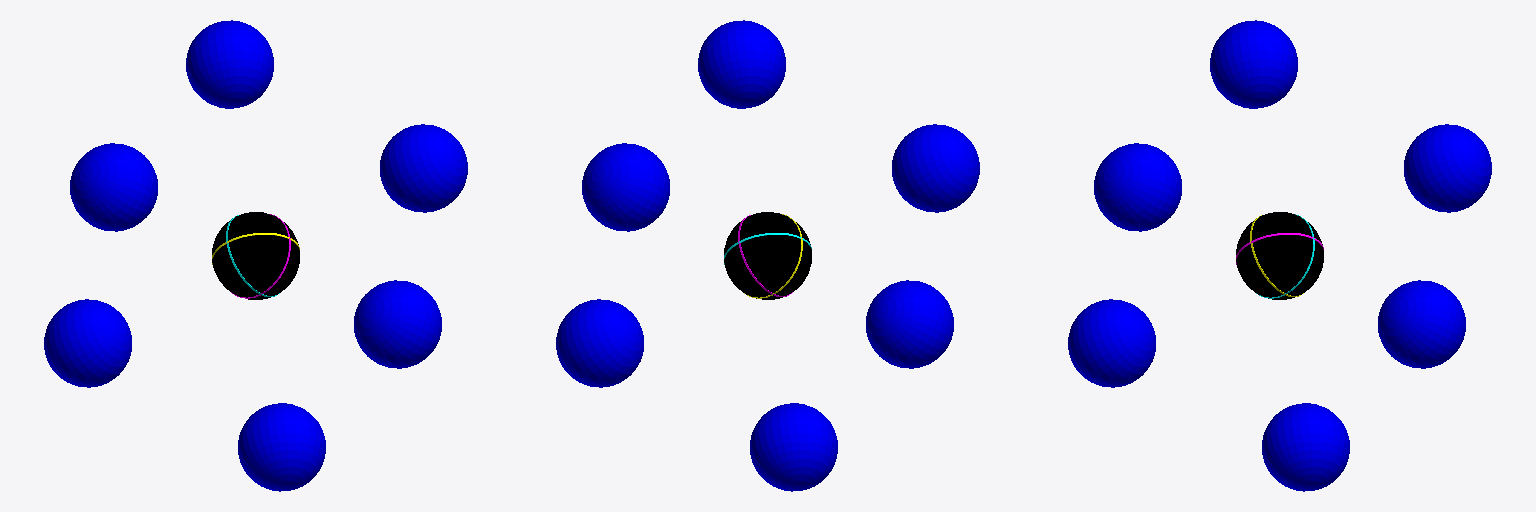
robot.urdf — onshape:
<robot name="onshape">

    <material name="black">
        <color rgba="0 0 0 0.8"/>
    </material>
    <material name="cyan">
        <color rgba="0.0 1.0 1.0 1.0"/>
    </material>
    <material name="magenta">
        <color rgba="1.0 0.0 1.0 1.0"/>
    </material>
    <material name="yellow">
        <color rgba="1.0 1.0 0.0 1.0"/>
    </material>
    <link name="fake_dummy_body:1">
        <visual>
            <origin xyz="0 0 0" rpy="-0.785398 -0.61548 1.19113" />
            <geometry>
                <sphere radius="0.1"/>
            </geometry>
            <material name="black"/>
        </visual>
        <inertial>
            <origin xyz="0 0 0" rpy="0 0 0"/>
            <mass value="0.075" />
            <inertia ixx="0.00108" ixy="-2.7e-07" ixz="-6.1e-07" iyy="0.00108" iyz="-3.3e-07" izz="0.00108" />
        </inertial>
    </link>

    <link name="rev_joint:1">
        <visual>
            <origin xyz="0 0 0" rpy="3.14159 0 0" />
            <geometry>
                <cylinder radius="0.101" length="0.005"/>
            </geometry>
            <material name="cyan"/>
        </visual>
        <inertial>
            <origin xyz="0 0 0" rpy="0 0 0"/>
            <mass value="0.00153243" />
            <inertia ixx="1.19e-06" ixy="1e-22" ixz="-8.58e-08" iyy="2.3e-06" iyz="1.38e-22" izz="2.36e-06" />
        </inertial>
    </link>

    <link name="member:1">
        <visual>
            <origin xyz="0 0 -0.4" rpy="0 0 0" />
            <geometry>
                <sphere radius="0.1"/>
            </geometry>
            <material name="member:1_material">
                <color rgba="0 0 1 1.0"/>
            </material>
        </visual>
        <collision>
            <origin xyz="0 0 -0.4" rpy="0 0 0" />
            <geometry>
                <sphere radius="0.1"/>
            </geometry>
            <material name="member:1_material">
                <color rgba="0 0 1 1.0"/>
            </material>
            <surface>
                <friction>
                <ode>
                    <mu>1</mu>
                    <mu2>0.5</mu2>
                </ode>
                </friction>
            </surface>
        </collision>
        <inertial>
            <origin xyz="0 0 -0.402703" rpy="0 0 0"/>
            <mass value="6.54356" />
            <inertia ixx="0.175312" ixy="-1.94635e-17" ixz="0" iyy="0.175312" iyz="1.82947e-09" izz="0.0193419" />
        </inertial>
    </link>

    <joint name="pri1" type="prismatic">
        <origin xyz="0.1 0 0" rpy="1.5708 0 -1.5708" />
        <parent link="rev_joint:1" />
        <child link="member:1" />
        <axis xyz="0 0 1"/>
        <limit effort="1" velocity="20" lower="-1" upper="0"/>
        <joint_properties friction="0.0"/>
    </joint>

    <joint name="rev1" type="revolute">
        <origin xyz="0 0 0" rpy="0.785398 0.61548 0.143931" />
        <parent link="fake_dummy_body:1" />
        <child link="rev_joint:1" />
        <axis xyz="0 0 1"/>
        <limit effort="1" velocity="20" lower="-1" upper="1"/>
        <joint_properties friction="0.0"/>
    </joint>

    <link name="rev_joint:1_2">
        <visual>
            <origin xyz="0 0 0" rpy="-3.14159 -0 -0" />
            <geometry>
                <cylinder radius="0.101" length="0.005"/>
            </geometry>
            <material name="magenta"/>
        </visual>
        <inertial>
            <origin xyz="0 0 0" rpy="0 0 0"/>
            <mass value="0.00153243" />
            <inertia ixx="1.19e-06" ixy="2.5e-22" ixz="-8.58e-08" iyy="2.3e-06" iyz="-7e-24" izz="2.36e-06" />
        </inertial>
    </link>

    <link name="member:1_2">
        <visual>
            <origin xyz="0 0 -0.4" rpy="0 0 0" />
            <geometry>
                <sphere radius="0.1"/>
            </geometry>
            <material name="member:1_material">
                <color rgba="0 0 1 1.0"/>
            </material>
        </visual>
        <collision>
            <origin xyz="0 0 -0.4" rpy="0 0 0" />
            <geometry>
                <sphere radius="0.1"/>
            </geometry>
            <material name="member:1_material">
                <color rgba="0 0 1 1.0"/>
            </material>
            <surface>
                <friction>
                <ode>
                    <mu>1</mu>
                    <mu2>0.5</mu2>
                </ode>
                </friction>
            </surface>
        </collision>
        <inertial>
            <origin xyz="-9.8046e-17 0 -0.402703" rpy="0 0 0"/>
            <mass value="6.54356" />
            <inertia ixx="0.175312" ixy="-9.73176e-18" ixz="3.78533e-17" iyy="0.175312" iyz="1.82947e-09" izz="0.0193419" />
        </inertial>
    </link>

    <joint name="pri2" type="prismatic">
        <origin xyz="0.1 0 0" rpy="1.5708 0 -1.5708" />
        <parent link="rev_joint:1_2" />
        <child link="member:1_2" />
        <axis xyz="0 0 1"/>
        <limit effort="1" velocity="20" lower="-1" upper="0"/>
        <joint_properties friction="0.0"/>
    </joint>

    <joint name="rev2" type="revolute">
        <origin xyz="0 0 0" rpy="0.785398 0.61548 -1.95046" />
        <parent link="fake_dummy_body:1" />
        <child link="rev_joint:1_2" />
        <axis xyz="0 0 1"/>
        <limit effort="1" velocity="20" lower="-1" upper="1"/>
        <joint_properties friction="0.0"/>
    </joint>

    <link name="rev_joint:1_3">
        <visual>
            <origin xyz="0 0 0" rpy="-3.14159 -0 0" />
            <geometry>
                <cylinder radius="0.101" length="0.005"/>
            </geometry>
            <material name="yellow"/>
        </visual>
        <inertial>
            <origin xyz="0 0 0" rpy="0 0 0"/>
            <mass value="0.00153243" />
            <inertia ixx="1.19e-06" ixy="-4.76419e-24" ixz="-8.58e-08" iyy="2.3e-06" iyz="2.59777e-22" izz="2.36e-06" />
        </inertial>
    </link>

    <link name="member:1_3">
        <visual>
            <origin xyz="0 0 -0.4" rpy="0 0 0" />
            <geometry>
                <sphere radius="0.1"/>
            </geometry>
            <material name="member:1_material">
                <color rgba="0 0 1 1.0"/>
            </material>
        </visual>
        <collision>
            <origin xyz="0 0 -0.4" rpy="0 0 0" />
            <geometry>
                <sphere radius="0.1"/>
            </geometry>
            <material name="member:1_material">
                <color rgba="0 0 1 1.0"/>
            </material>
            <surface>
                <friction>
                <ode>
                    <mu>1</mu>
                    <mu2>0.5</mu2>
                </ode>
                </friction>
            </surface>
        </collision>
        <inertial>
            <origin xyz="0 0 -0.402703" rpy="0 0 0"/>
            <mass value="6.54356" />
            <inertia ixx="0.175312" ixy="-1.94635e-17" ixz="0" iyy="0.175312" iyz="1.82947e-09" izz="0.0193419" />
        </inertial>
    </link>

    <joint name="pri3" type="prismatic">
        <origin xyz="0.1 0 0" rpy="-3.14159 1.5708 0" />
        <parent link="rev_joint:1_3" />
        <child link="member:1_3" />
        <axis xyz="0 0 1"/>
        <limit effort="1" velocity="20" lower="-1" upper="0"/>
        <joint_properties friction="0.0"/>
    </joint>

    <joint name="rev3" type="revolute">
        <origin xyz="0 0 0" rpy="-2.35619 0.61548 2.23833" />
        <parent link="fake_dummy_body:1" />
        <child link="rev_joint:1_3" />
        <axis xyz="0 0 1"/>
        <limit effort="1" velocity="20" lower="-1" upper="1"/>
        <joint_properties friction="0.0"/>
    </joint>

    <link name="rev_joint:1_4">
        <visual>
            <origin xyz="0 0 0" rpy="3.14159 -0 0" />
            <geometry>
                <cylinder radius="0.01" length="0.001"/>
            </geometry>
            <material name="rev_joint:1_material">
                <color rgba="0.980392 0.713725 0.00392157 1.0"/>
            </material>
        </visual>
        <inertial>
            <origin xyz="0 0 0" rpy="0 0 0"/>
            <mass value="0.00153243" />
            <inertia ixx="1.19e-06" ixy="7.07826e-23" ixz="-8.58e-08" iyy="2.3e-06" iyz="-3.93301e-22" izz="2.36e-06" />
        </inertial>
    </link>

    <link name="member:1_4">
        <visual>
            <origin xyz="0 0 -0.4" rpy="0 -0 -0" />
            <geometry>
                <sphere radius="0.1"/>
            </geometry>
            <material name="member:1_material">
                <color rgba="0 0 1 1.0"/>
            </material>
        </visual>
        <collision>
            <origin xyz="0 0 -0.4" rpy="0 -0 -0" />
            <geometry>
                <sphere radius="0.1"/>
            </geometry>
            <material name="member:1_material">
                <color rgba="0 0 1 1.0"/>
            </material>
            <surface>
                <friction>
                <ode>
                    <mu>1</mu>
                    <mu2>0.5</mu2>
                </ode>
                </friction>
            </surface>
        </collision>
        <inertial>
            <origin xyz="0 0 -0.402703" rpy="0 0 0"/>
            <mass value="6.54356" />
            <inertia ixx="0.175312" ixy="-5.30476e-24" ixz="-1.83898e-17" iyy="0.175312" iyz="1.82947e-09" izz="0.0193419" />
        </inertial>
    </link>

    <joint name="pri4" type="prismatic">
        <origin xyz="0.1 0 0" rpy="-3.14159 1.5708 0" />
        <parent link="rev_joint:1_4" />
        <child link="member:1_4" />
        <axis xyz="0 0 1"/>
        <limit effort="1" velocity="20" lower="-1" upper="0"/>
        <joint_properties friction="0.0"/>
    </joint>

    <joint name="rev4" type="revolute">
        <origin xyz="0 0 0" rpy="-0.785398 -0.61548 -0.903267" />
        <parent link="fake_dummy_body:1" />
        <child link="rev_joint:1_4" />
        <axis xyz="0 0 1"/>
        <limit effort="1" velocity="20" lower="-1" upper="1"/>
        <joint_properties friction="0.0"/>
    </joint>

    <link name="rev_joint:1_5">
        <visual>
            <origin xyz="0 0 0" rpy="3.14159 0 0" />
            <geometry>
                <cylinder radius="0.01" length="0.001"/>
            </geometry>
            <material name="rev_joint:1_material">
                <color rgba="0.980392 0.713725 0.00392157 1.0"/>
            </material>
        </visual>
        <inertial>
            <origin xyz="0 0 0" rpy="0 0 0"/>
            <mass value="0.00153243" />
            <inertia ixx="1.19e-06" ixy="2.64074e-22" ixz="-8.58e-08" iyy="2.3e-06" iyz="-1.90568e-23" izz="2.36e-06" />
        </inertial>
    </link>

    <link name="member:1_5">
        <visual>
            <origin xyz="0 0 -0.4" rpy="0 0 0" />
            <geometry>
                <sphere radius="0.1"/>
            </geometry>
            <material name="member:1_material">
                <color rgba="0 0 1 1.0"/>
            </material>
        </visual>
        <collision>
            <origin xyz="0 0 -0.4" rpy="0 0 0" />
            <geometry>
                <sphere radius="0.1"/>
            </geometry>
            <material name="member:1_material">
                <color rgba="0 0 1 1.0"/>
            </material>
            <surface>
                <friction>
                <ode>
                    <mu>1</mu>
                    <mu2>0.5</mu2>
                </ode>
                </friction>
            </surface>
        </collision>
        <inertial>
            <origin xyz="0 0 -0.402703" rpy="0 0 0"/>
            <mass value="6.54356" />
            <inertia ixx="0.175312" ixy="2.91953e-17" ixz="-8.65807e-18" iyy="0.175312" iyz="1.82947e-09" izz="0.0193419" />
        </inertial>
    </link>

    <joint name="pri5" type="prismatic">
        <origin xyz="0.1 0 0" rpy="1.5708 0 -1.5708" />
        <parent link="rev_joint:1_5" />
        <child link="member:1_5" />
        <axis xyz="0 0 1"/>
        <limit effort="1" velocity="20" lower="-1" upper="0"/>
        <joint_properties friction="0.0"/>
    </joint>

    <joint name="rev5" type="revolute">
        <origin xyz="0 0 0" rpy="2.35619 -0.61548 1.19113" />
        <parent link="fake_dummy_body:1" />
        <child link="rev_joint:1_5" />
        <axis xyz="0 0 1"/>
        <limit effort="1" velocity="20" lower="-1" upper="1"/>
        <joint_properties friction="0.0"/>
    </joint>

    <link name="rev_joint:1_6">
        <visual>
            <origin xyz="0 0 0" rpy="-3.14159 -0 -0" />
            <geometry>
                <cylinder radius="0.01" length="0.001"/>
            </geometry>
            <material name="rev_joint:1_material">
                <color rgba="0.980392 0.713725 0.00392157 1.0"/>
            </material>
        </visual>
        <inertial>
            <origin xyz="0 0 0" rpy="0 0 0"/>
            <mass value="0.00153243" />
            <inertia ixx="1.19e-06" ixy="2.51268e-22" ixz="-8.58e-08" iyy="2.3e-06" iyz="1.23749e-22" izz="2.36e-06" />
        </inertial>
    </link>

    <link name="member:1_6">
        <visual>
            <origin xyz="0 0 -0.4" rpy="0 0 0" />
            <geometry>
                <sphere radius="0.1"/>
            </geometry>
            <material name="member:1_material">
                <color rgba="0 0 1 1.0"/>
            </material>
        </visual>
        <collision>
            <origin xyz="0 0 -0.4" rpy="0 0 0" />
            <geometry>
                <sphere radius="0.1"/>
            </geometry>
            <material name="member:1_material">
                <color rgba="0 0 1 1.0"/>
            </material>
            <surface>
                <friction>
                <ode>
                    <mu>1</mu>
                    <mu2>0.5</mu2>
                </ode>
                </friction>
            </surface>
        </collision>
        <inertial>
            <origin xyz="0 0 -0.402703" rpy="0 0 0"/>
            <mass value="6.54356" />
            <inertia ixx="0.175312" ixy="-1.09142e-23" ixz="1.83898e-17" iyy="0.175312" iyz="1.82947e-09" izz="0.0193419" />
        </inertial>
    </link>

    <joint name="pri6" type="prismatic">
        <origin xyz="0.1 0 0" rpy="1.5708 0 -1.5708" />
        <parent link="rev_joint:1_6" />
        <child link="member:1_6" />
        <axis xyz="0 0 1"/>
        <limit effort="1" velocity="20" lower="-1" upper="0"/>
        <joint_properties friction="0.0"/>
    </joint>

    <joint name="rev6" type="revolute">
        <origin xyz="0 0 0" rpy="2.35619 -0.61548 -2.99766" />
        <parent link="fake_dummy_body:1" />
        <child link="rev_joint:1_6" />
        <axis xyz="0 0 1"/>
        <limit effort="1" velocity="20" lower="-1" upper="1"/>
        <joint_properties friction="0.0"/>
    </joint>


</robot>

--- Facts derived from the render (not from the file) ---
3 views of the same robot in one strip: view 1: azimuth 30°, elevation 25°; view 2: azimuth 150°, elevation 25°; view 3: azimuth 270°, elevation 25° (orthographic).
Robot: onshape — 13 links, 12 joints (6 revolute, 6 prismatic); root link fake_dummy_body:1; default pose: all joints at 0.
Visible links, largest first — view 1: member:1_2, member:1_5, member:1_3, member:1_4, member:1, member:1_6, fake_dummy_body:1; view 2: member:1_3, member:1_4, member:1, member:1_6, member:1_2, member:1_5, fake_dummy_body:1; view 3: member:1_6, member:1, member:1_2, member:1_5, member:1_3, member:1_4, fake_dummy_body:1.
Link boxes in pixels (x1,y1,x2,y2): member:1_2: (238,403,325,491); member:1_5: (186,20,273,108); member:1_3: (44,299,131,387); member:1_4: (380,124,467,212); member:1: (354,280,441,368); member:1_6: (70,143,157,231); fake_dummy_body:1: (212,212,299,299); member:1_3: (750,403,837,491); member:1_4: (698,20,785,108); member:1: (556,299,643,387); member:1_6: (892,124,979,212); member:1_2: (866,280,953,368); member:1_5: (582,143,669,231); fake_dummy_body:1: (724,212,811,299); member:1_6: (1210,20,1297,108); member:1: (1262,403,1349,491); member:1_2: (1068,299,1155,387); member:1_5: (1404,124,1491,212); member:1_3: (1378,280,1465,368); member:1_4: (1094,143,1181,231); fake_dummy_body:1: (1236,212,1323,299).
Size in the robot's own frame: 1.01 by 0.9578 by 0.7773 metres.
Geometry: primitives only (box / cylinder / sphere), no mesh files.